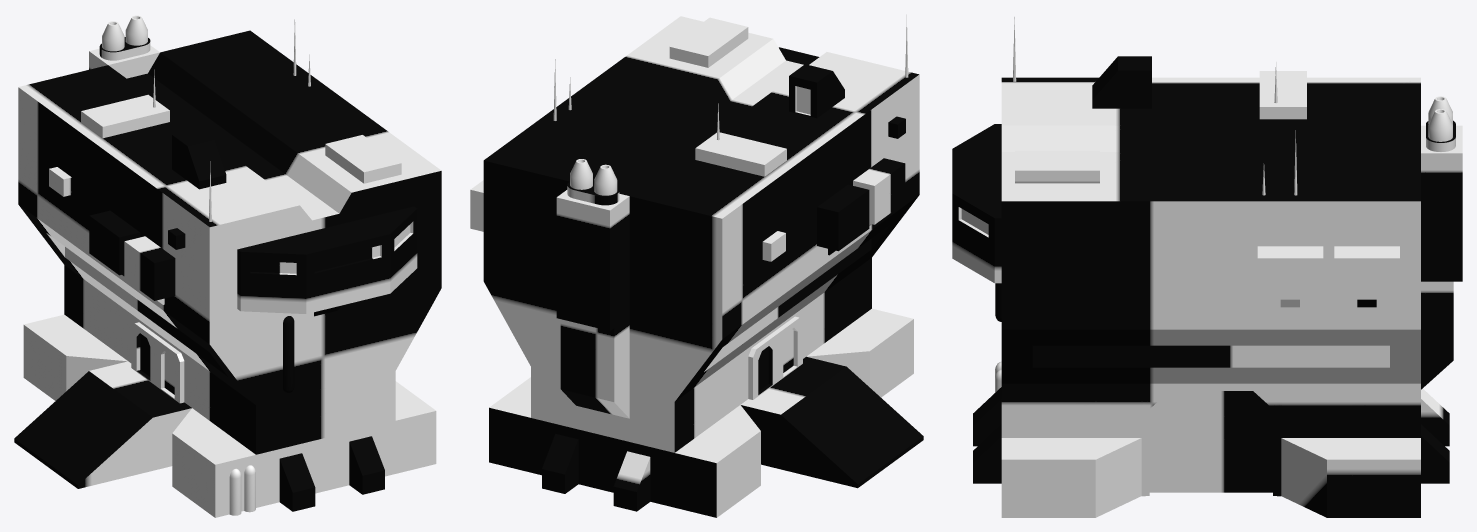
File: Building2.fbx
3 views of the same model, side by side, from view 1: azimuth 30°, elevation 25°; view 2: azimuth 150°, elevation 25°; view 3: azimuth 270°, elevation 25° (orthographic). The views are drawn at different scales.
Visible parts, largest first — view 1: base.001; view 2: base.001; view 3: base.001.
Part boxes in pixels (x1,y1,x2,y2): base.001: (14, 15, 441, 517); base.001: (470, 14, 923, 517); base.001: (952, 17, 1462, 517).
Bounding box in the file's own units: 462 × 484 × 579.
